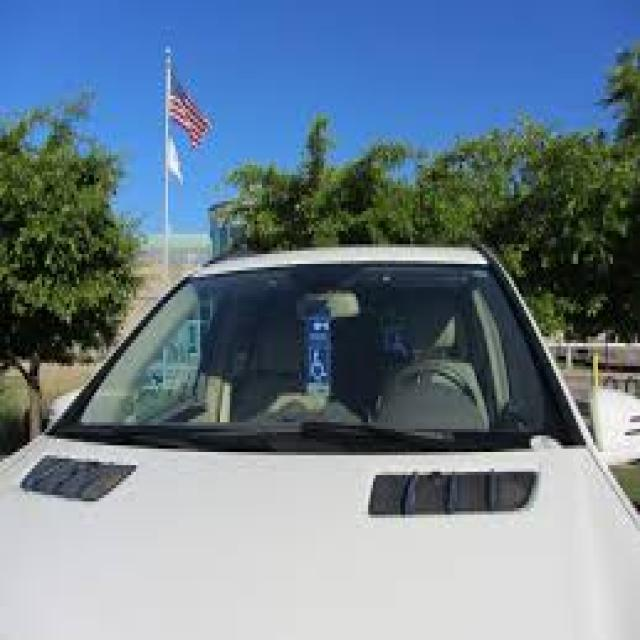car-handicap-placard: (311, 346, 327, 379)
